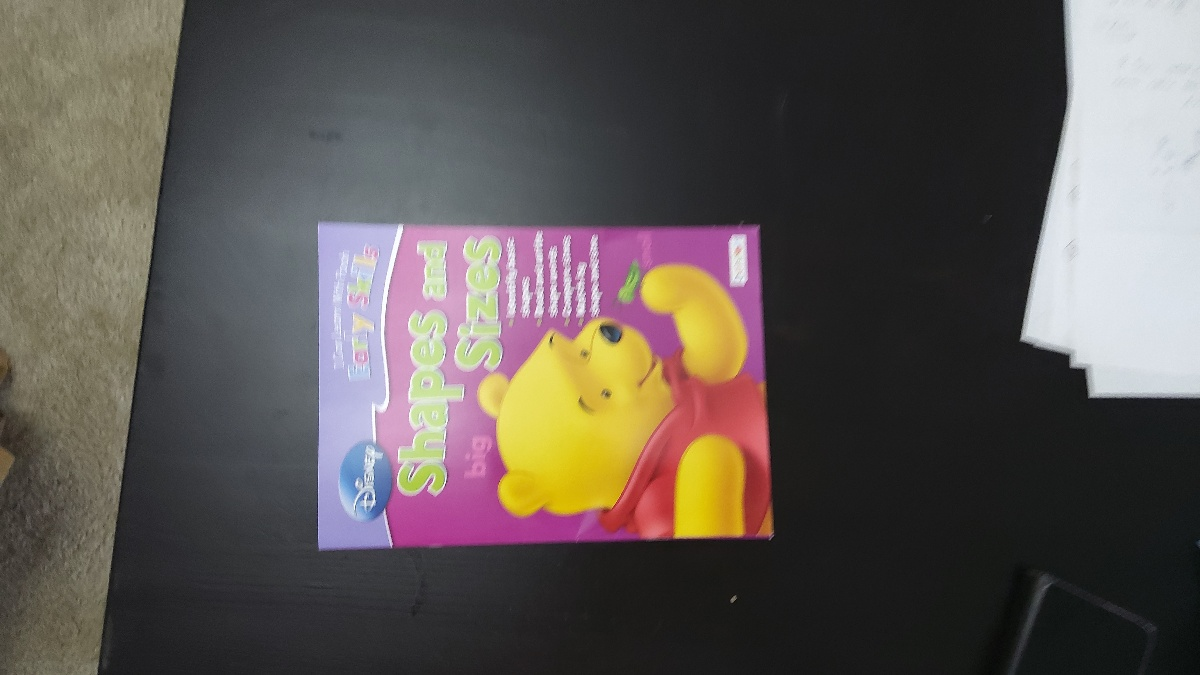book: (314, 223, 769, 541)
